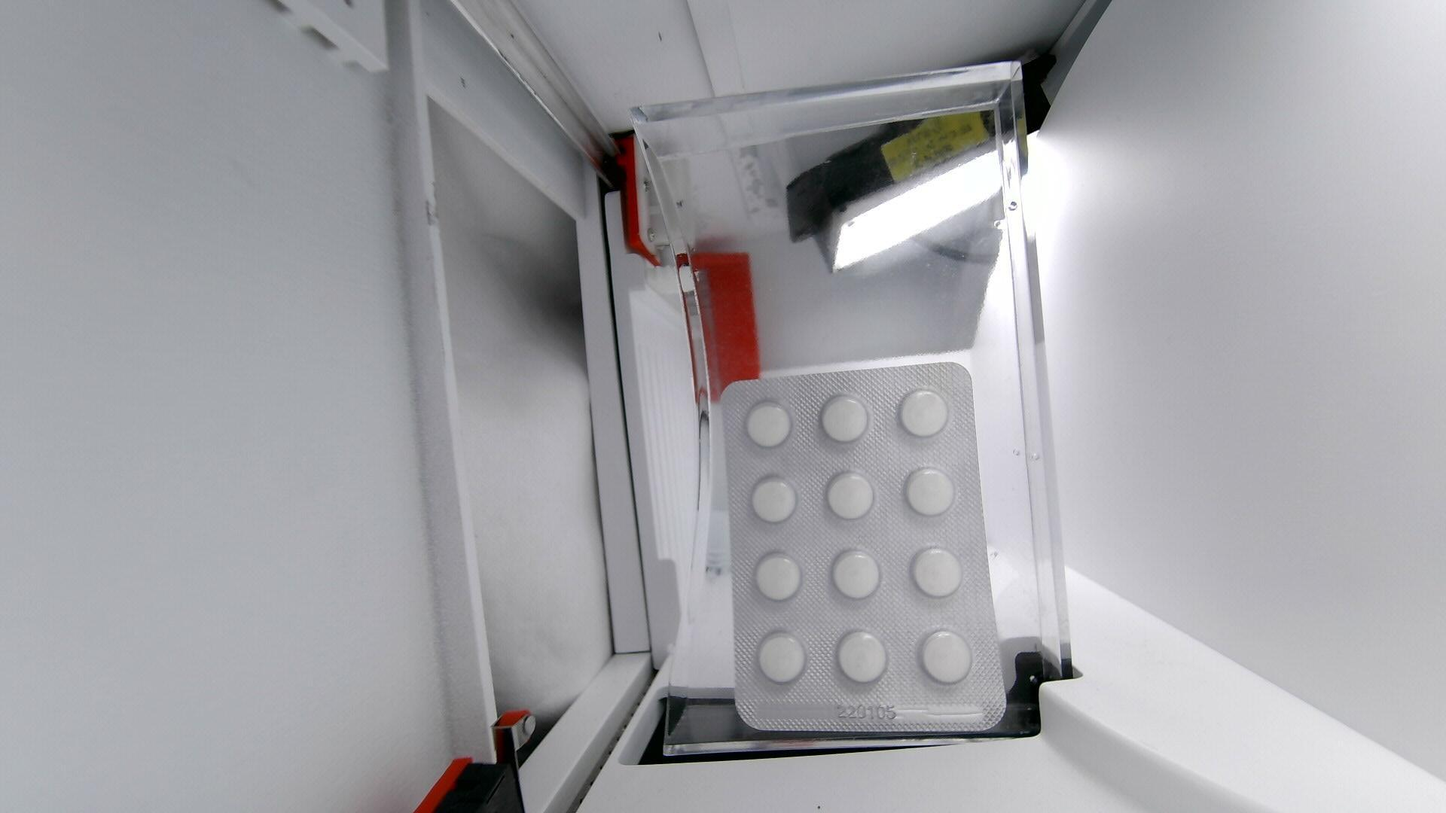Light Front: (724, 363, 1003, 732)
Pill Front: (921, 631, 972, 684), (837, 631, 886, 682), (832, 550, 883, 599), (912, 547, 960, 597), (898, 390, 950, 436), (758, 633, 804, 683), (906, 469, 954, 516), (755, 553, 800, 601), (822, 395, 867, 440), (751, 477, 796, 522), (827, 473, 871, 518), (747, 403, 791, 446)
